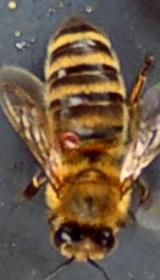varroa_mite: (50, 116, 84, 158)
